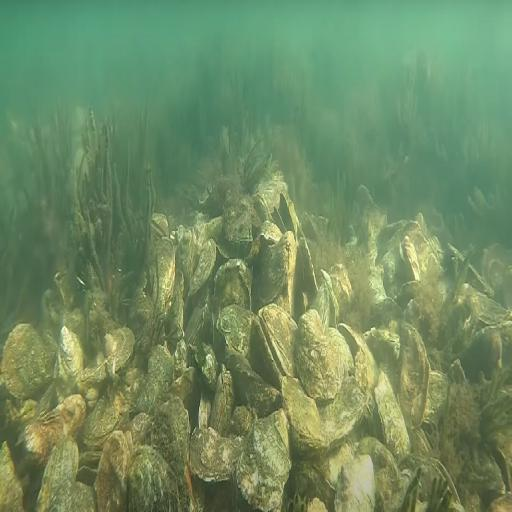Oyster-Closed: (282, 324, 362, 450), (237, 413, 293, 512), (137, 398, 190, 483), (295, 314, 344, 404), (4, 324, 57, 400), (225, 350, 281, 419), (128, 447, 183, 512), (400, 320, 433, 427), (38, 438, 83, 512), (82, 385, 128, 457), (377, 378, 410, 468), (256, 237, 296, 311), (192, 430, 245, 483), (94, 437, 130, 512), (214, 257, 255, 322), (261, 303, 298, 373), (252, 320, 288, 390), (335, 457, 378, 512), (217, 302, 258, 356), (151, 242, 177, 326), (59, 329, 84, 399), (298, 228, 319, 306), (49, 481, 98, 512), (107, 325, 135, 379), (191, 238, 217, 295), (484, 242, 512, 294), (467, 293, 507, 324), (210, 372, 225, 435), (313, 280, 329, 326)
Oyster-Open: (414, 456, 466, 512), (486, 444, 511, 497), (274, 191, 298, 242), (253, 193, 276, 225), (78, 468, 101, 487)
